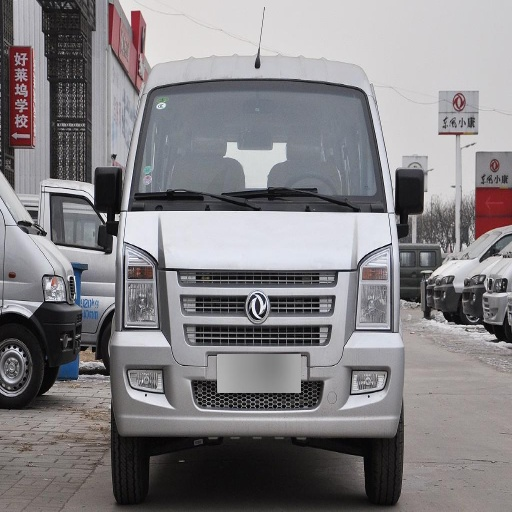front_bumper: (122, 269, 405, 433)
hood: (141, 212, 390, 298)
